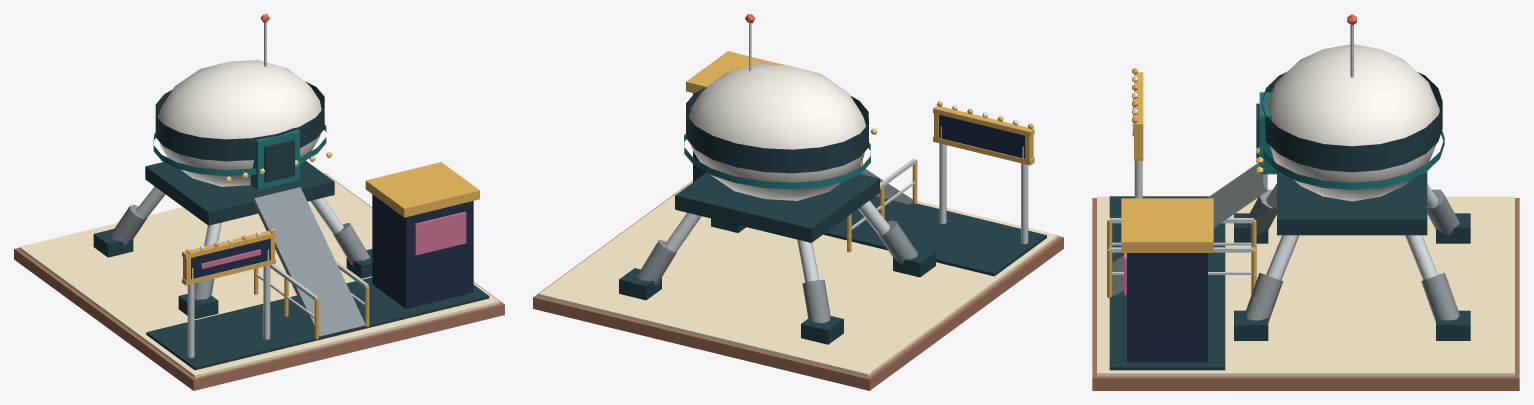
File: ride_simulator.glb
3 renders of one model, left to right at view 1: azimuth 30°, elevation 25°; view 2: azimuth 150°, elevation 25°; view 3: azimuth 270°, elevation 25°, orthographic. The views are drawn at different scales.
Visible parts, largest first — view 1: ride_simulator; view 2: ride_simulator; view 3: ride_simulator.
Boxes of the visible parts, x1,y1,x2,y2 form: ride_simulator: (14, 14, 504, 390); ride_simulator: (533, 14, 1063, 390); ride_simulator: (1092, 14, 1519, 390).
Bounding box in the file's own units: 7.4 × 5.74 × 7.4.
